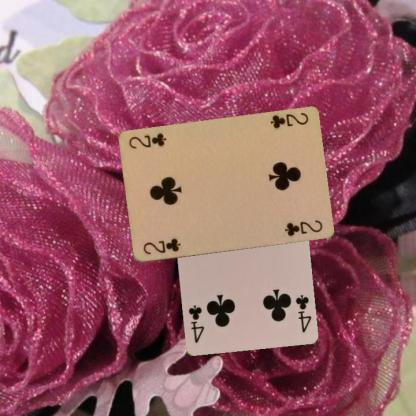2c: (140, 236, 182, 256), (268, 110, 309, 130)
4c: (292, 292, 312, 333)
